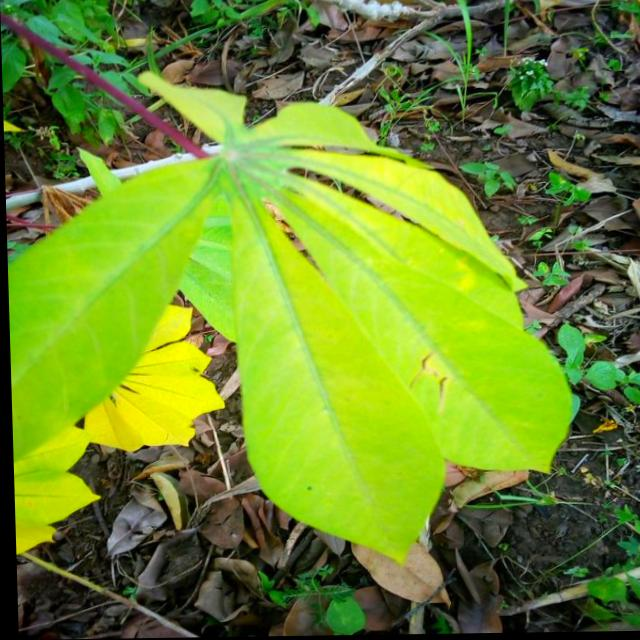Mosaico: (38, 78, 529, 528)
